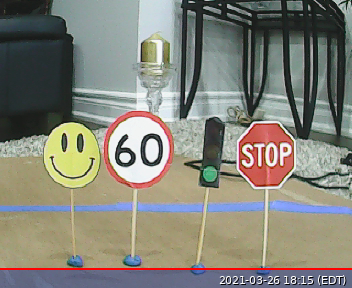Green Traffic Light: (196, 113, 226, 189)
Person: (42, 120, 102, 190)
Speed Limit 60: (103, 111, 175, 189)
Stop Sign: (235, 119, 296, 190)
